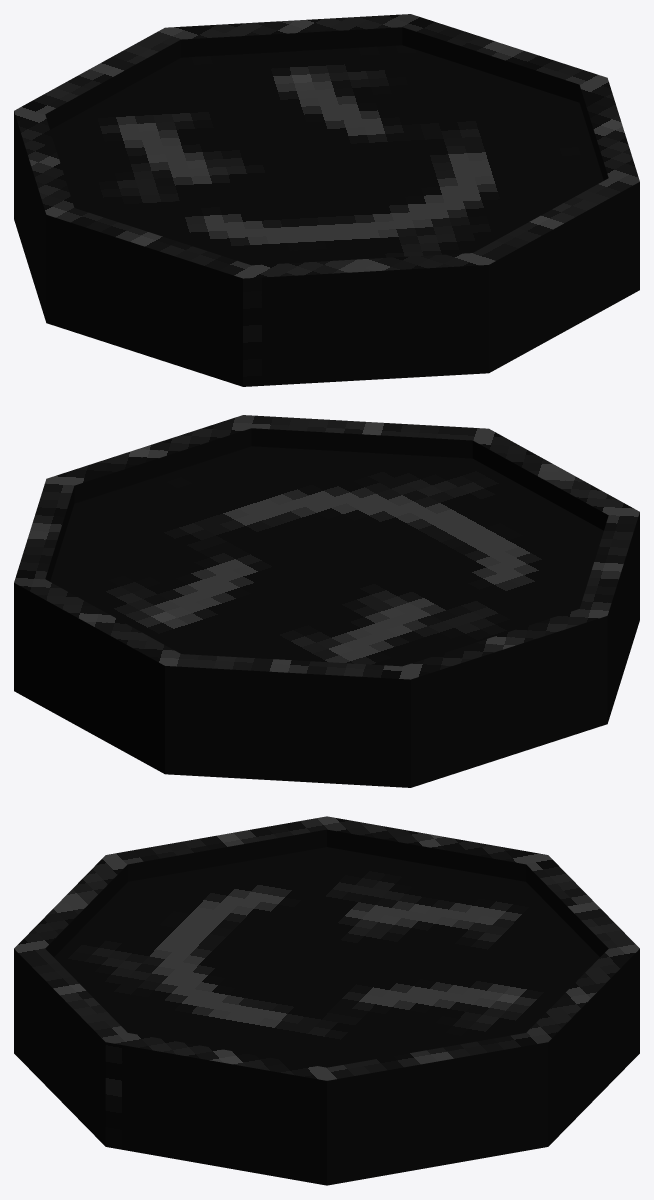
Rendered from check_black.glb.
3 renders of one model, top to bottom at view 1: azimuth 30°, elevation 25°; view 2: azimuth 150°, elevation 25°; view 3: azimuth 270°, elevation 25°, orthographic. The views are drawn at different scales.
Visible parts, largest first — view 1: Cylinder; view 2: Cylinder; view 3: Cylinder.
Part boxes in pixels (<box>): Cylinder: <box>14,14,639,386</box>; Cylinder: <box>14,415,639,787</box>; Cylinder: <box>14,816,639,1185</box>.
Bounding box in the file's own units: 0.052 × 0.0096 × 0.052.
1 material, 1 textured.
